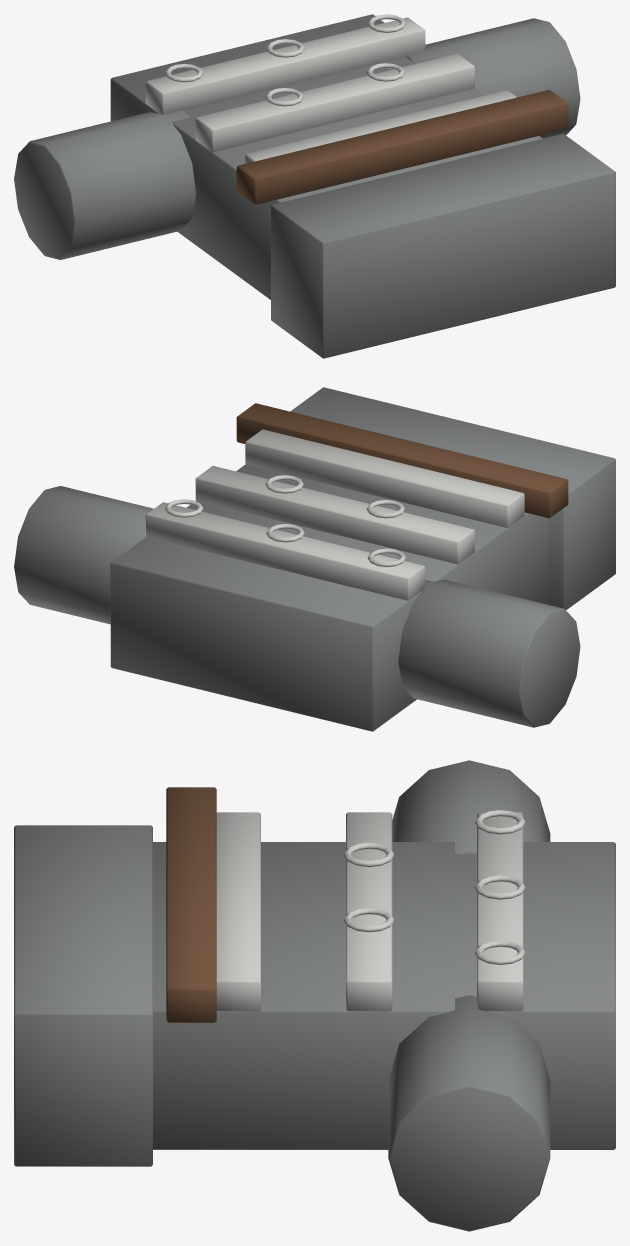
File: armor_chain_armor.glb
The picture shows the model from 3 angles, top to bottom: view 1: azimuth 30°, elevation 25°; view 2: azimuth 150°, elevation 25°; view 3: azimuth 270°, elevation 25°; orthographic projection. The views are drawn at different scales.
Parts seen in each view (by area): view 1: armor_chain_armor; view 2: armor_chain_armor; view 3: armor_chain_armor.
Part boxes in pixels (left/top/right/bottom): armor_chain_armor: left=14, top=14, right=615, bottom=358; armor_chain_armor: left=14, top=387, right=615, bottom=731; armor_chain_armor: left=14, top=760, right=615, bottom=1231.
Bounding box in the file's own units: 1 × 0.2695 × 0.78.
